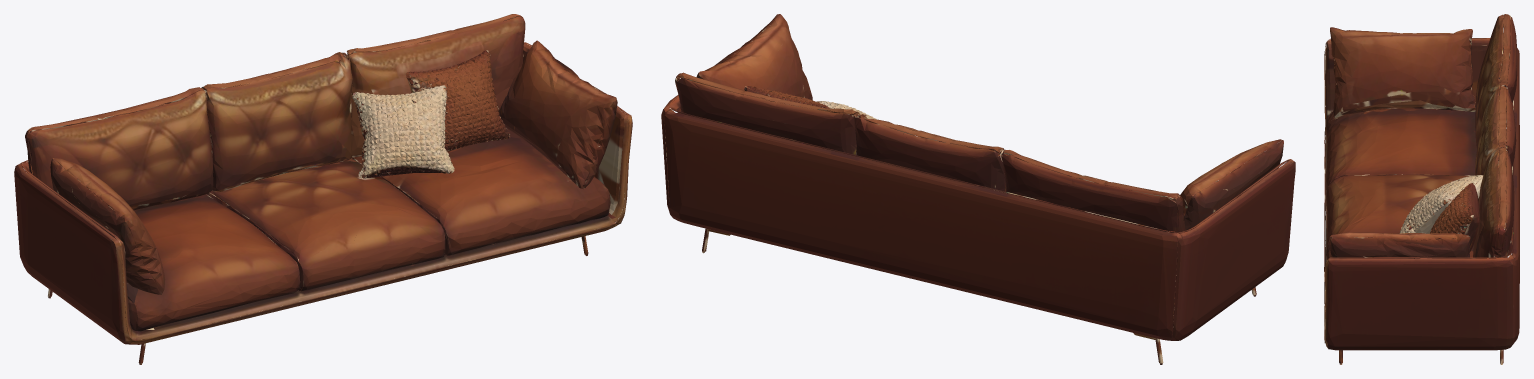
File: edited_mesh.glb
3 renders of one model, left to right at view 1: azimuth 30°, elevation 25°; view 2: azimuth 150°, elevation 25°; view 3: azimuth 270°, elevation 25°, orthographic. The views are drawn at different scales.
Parts seen in each view (by area): view 1: solid_001_wire; view 2: solid_001_wire; view 3: solid_001_wire.
Boxes of the visible parts, bbox=[...] form: solid_001_wire: bbox=[14, 14, 632, 364]; solid_001_wire: bbox=[661, 14, 1295, 364]; solid_001_wire: bbox=[1324, 14, 1519, 364].
Size of the model in its own units: 2 by 0.6387 by 0.7369.
Materials: 1 (1 with a texture image).
